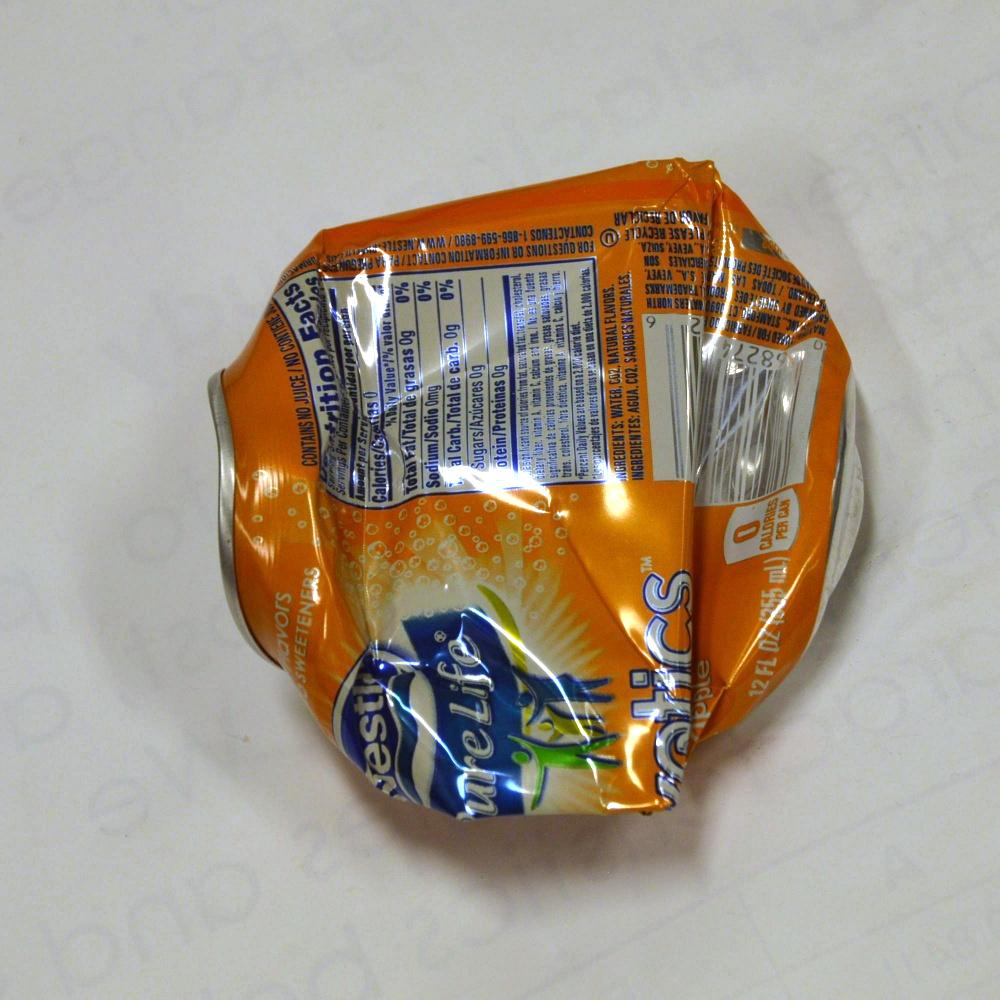Metal: (183, 152, 865, 813)
